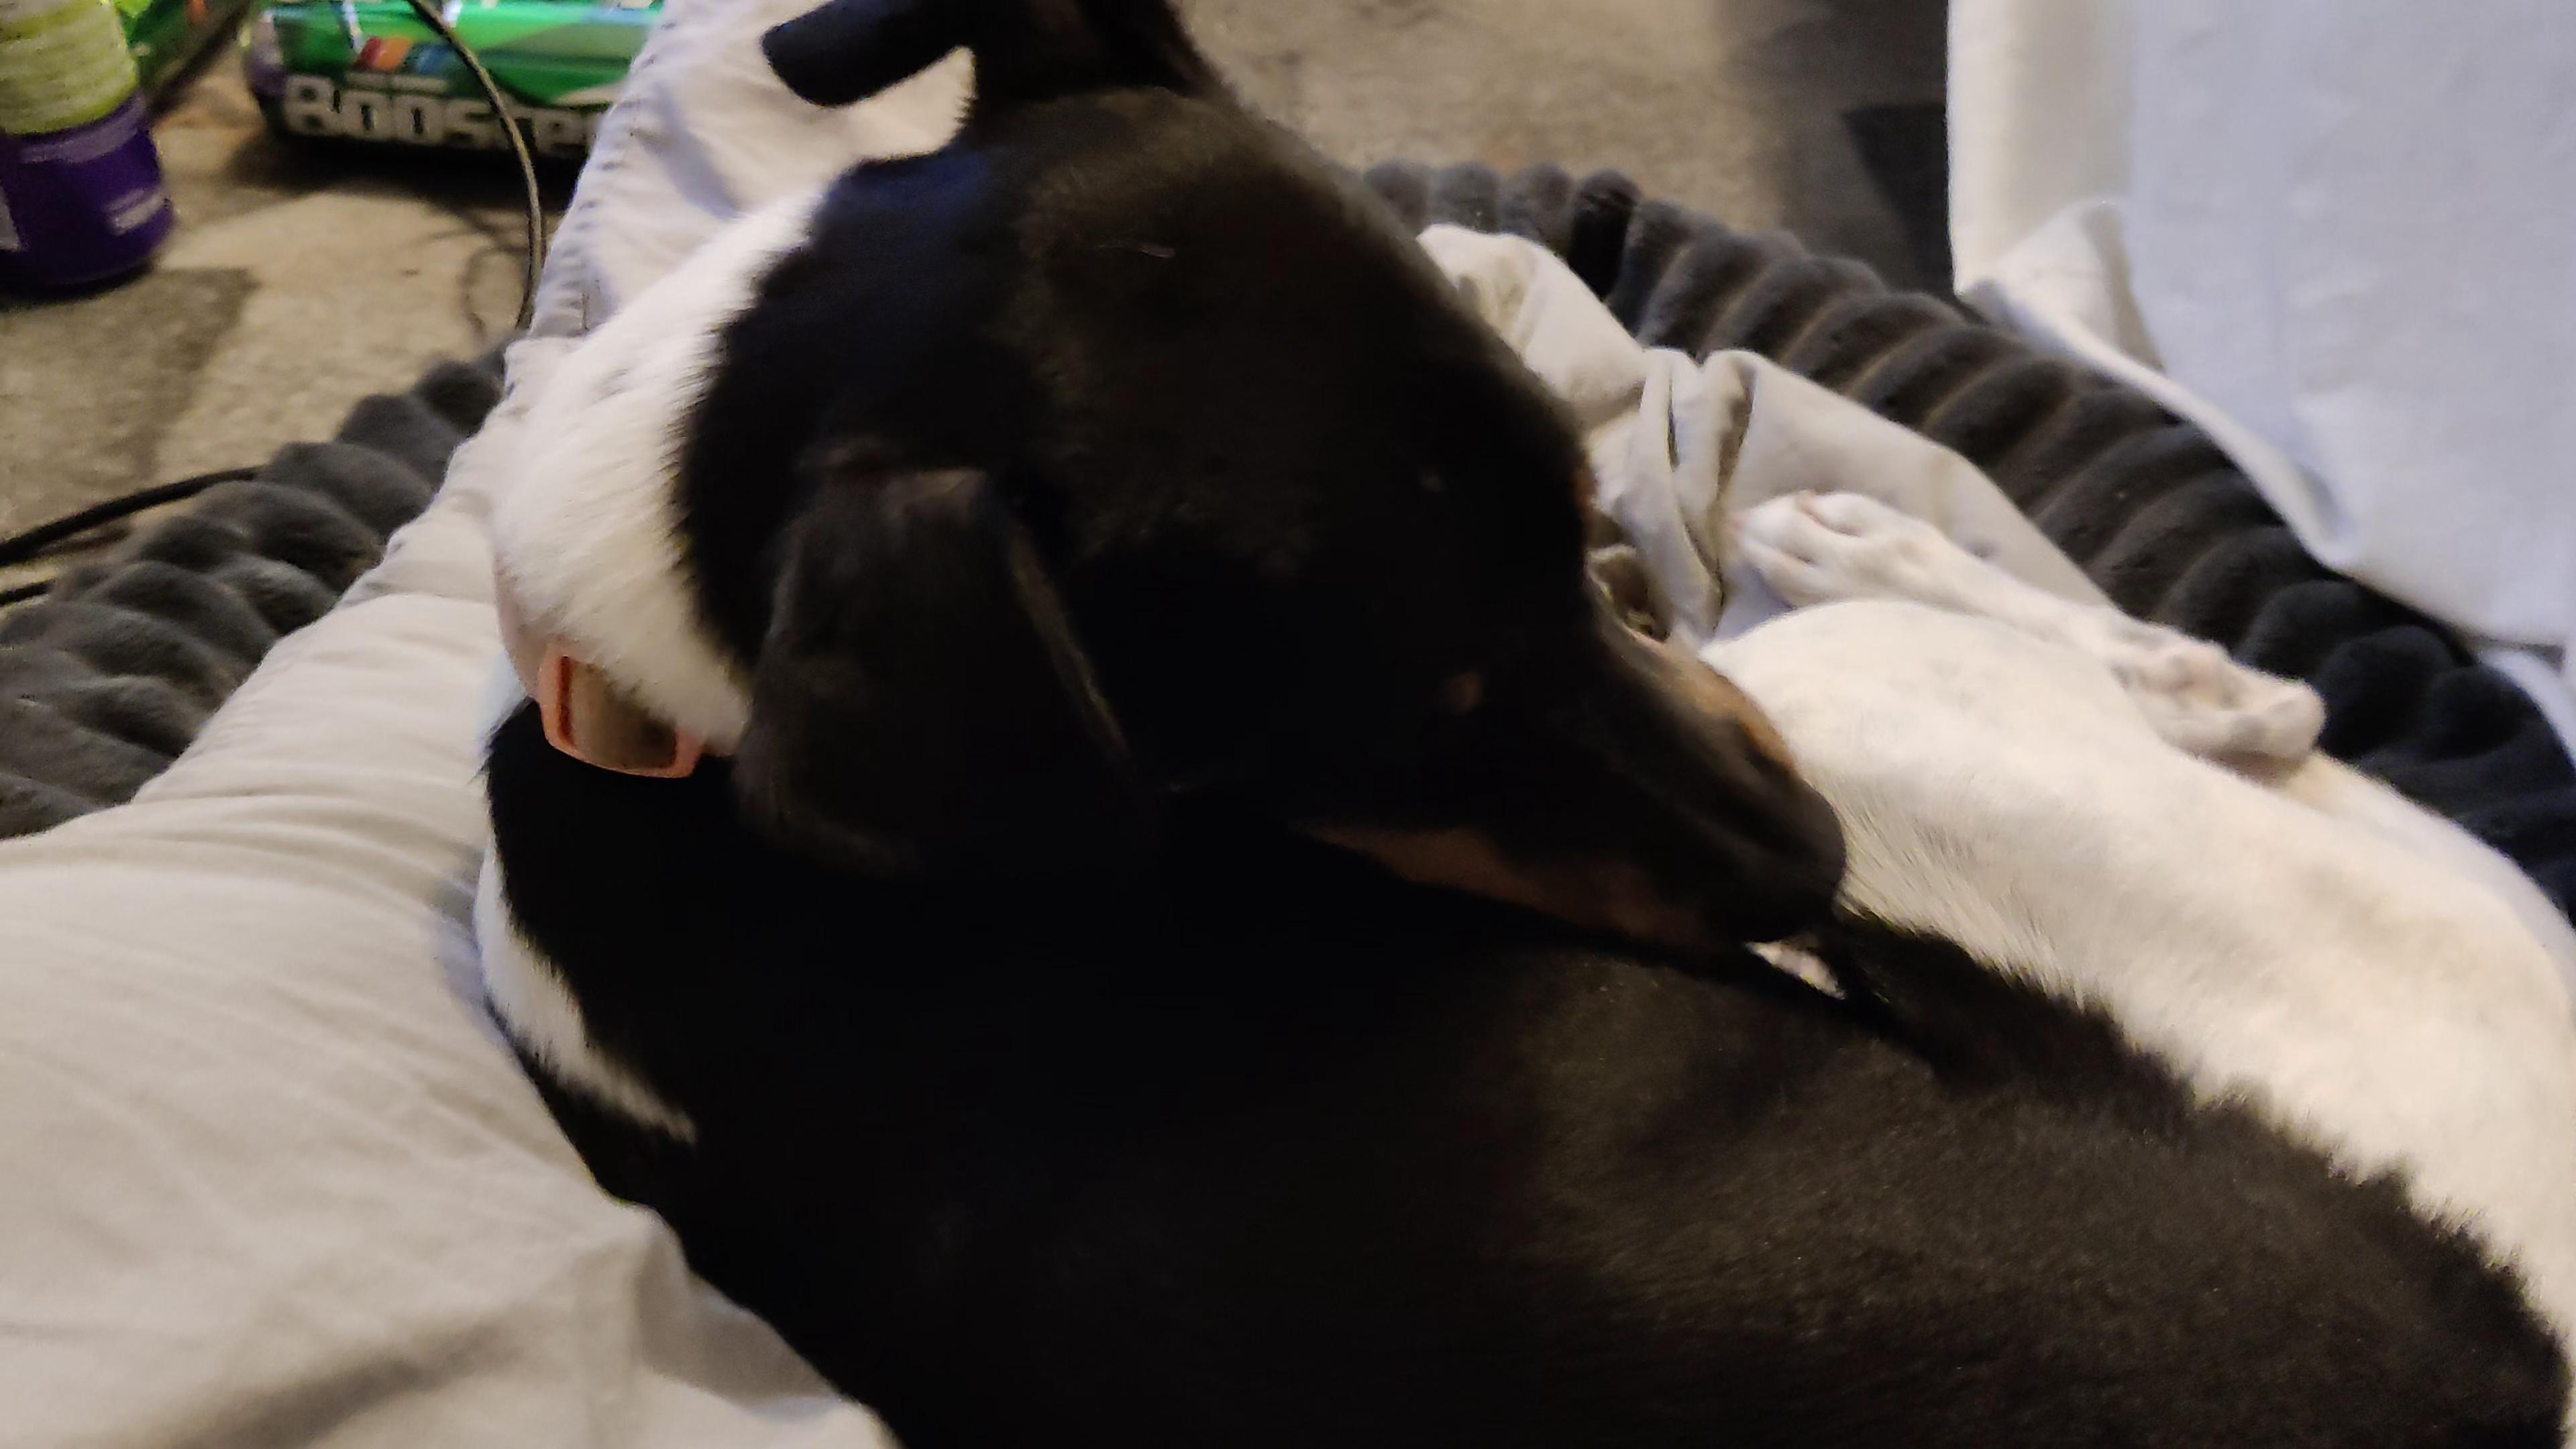Dog: (393, 0, 2576, 1449)
